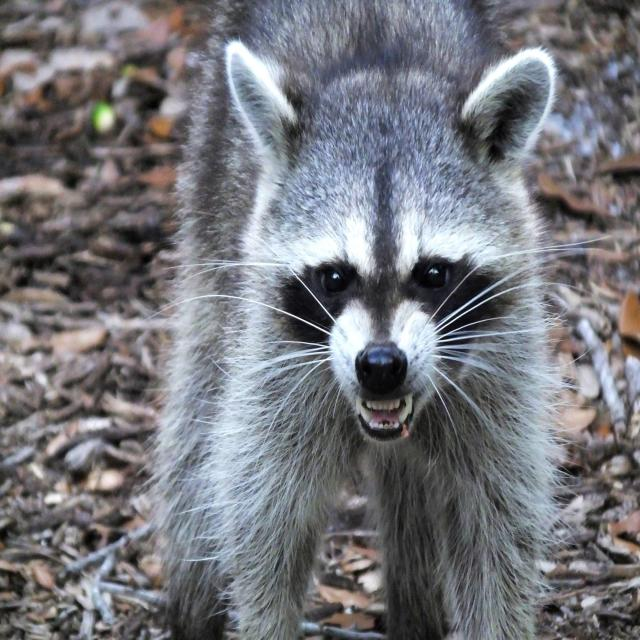Raccoon: (165, 0, 554, 640)
